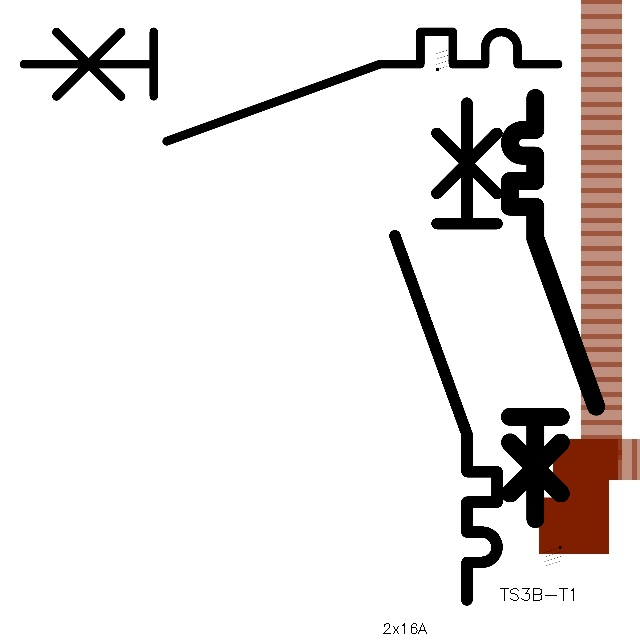interruptor_termomagnetico: (10, 18, 572, 155), (382, 90, 510, 613), (499, 87, 607, 530)
